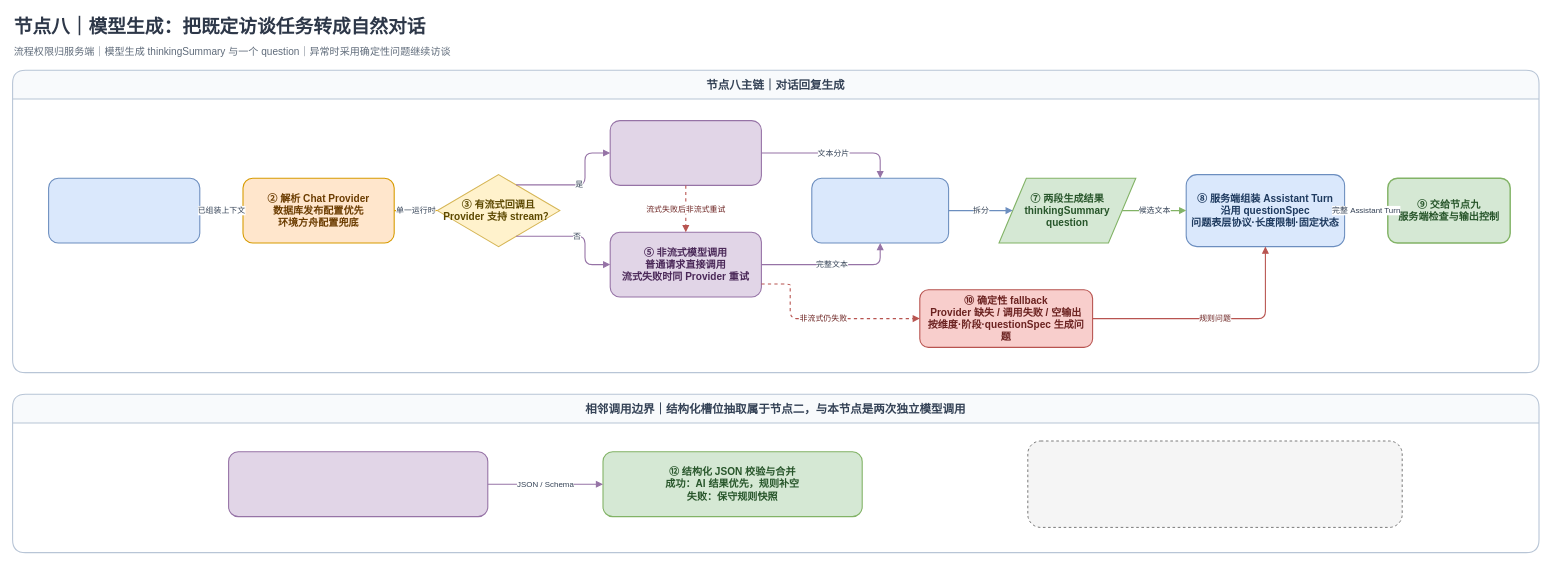
Some shapes in this 1552 by 565 pixel diagram are drawn without their labels. The centre of each missing label's shape, as x and y in pixels:
"① 节点七输出 问题 Prompt 维度·阶段·快照·questionSpec" belongs at (124,210).
"④ 流式模型调用 temperature 0.45 maxTokens 500" belongs at (685,153).
"⑥ 标记解析器 SUMMARY 段 QUESTION 段" belongs at (880,210).
"⑪ 抽取 Prompt＋维度 Schema 非流式 completeStructuredOutput temperature 0.15｜最多 2 次" belongs at (358,484).
"确定性分支直接跳过节点八： 问题修复｜停止边界｜事件完成｜维度转向 日志草稿生成使用另一套 Prompt、Schema、质量门与 fallback。" belongs at (1214,483).
